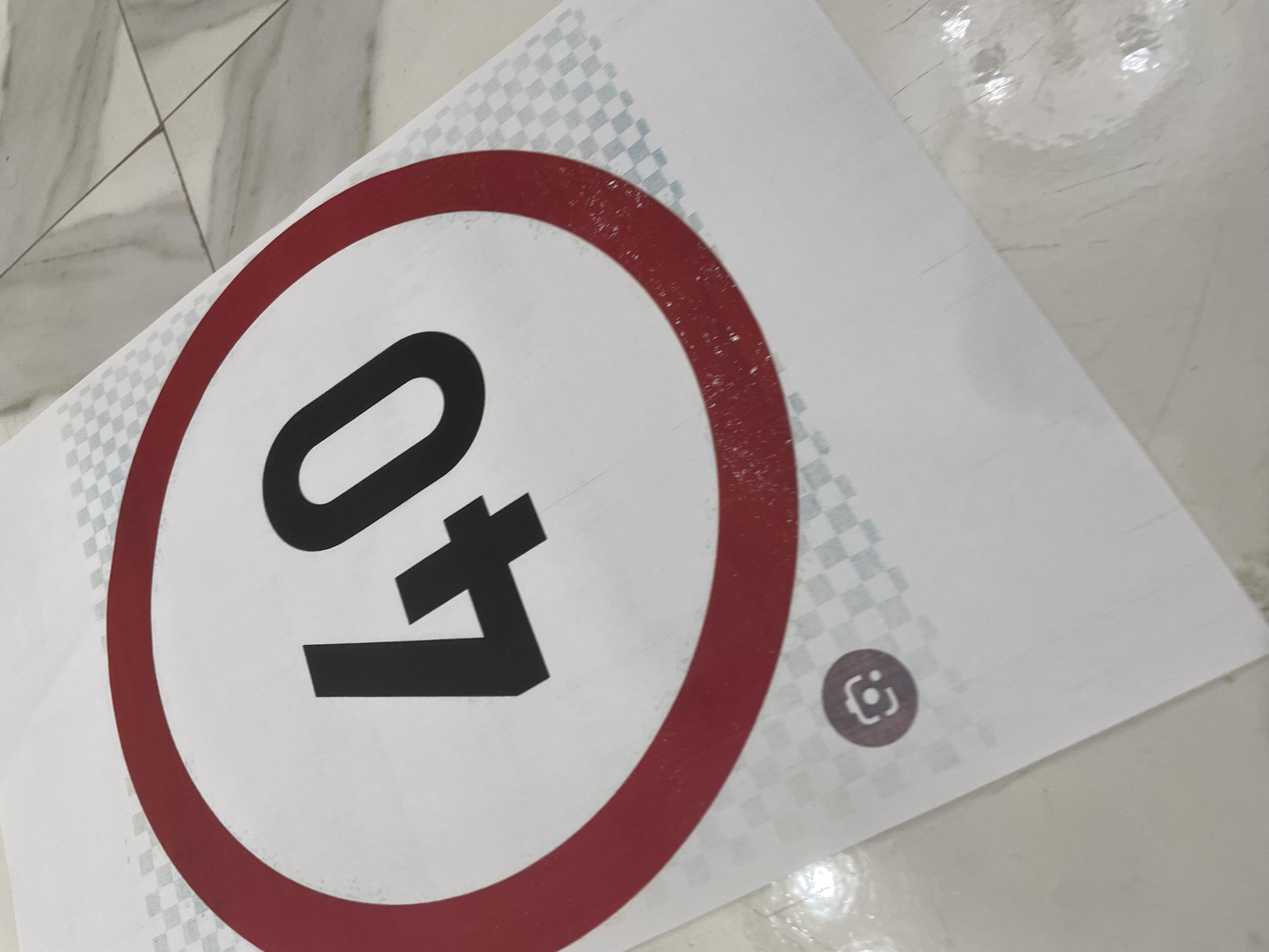40-Speed: (6, 68, 1111, 609)
